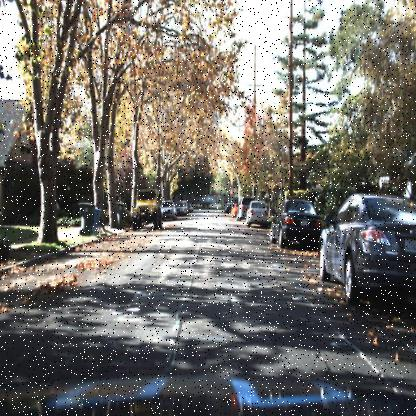car: (312, 172, 415, 304), (268, 189, 323, 251), (128, 184, 164, 233), (244, 196, 271, 230), (160, 196, 178, 224), (233, 197, 247, 225), (236, 194, 250, 222), (175, 200, 187, 218), (230, 200, 239, 223), (177, 201, 189, 217)
